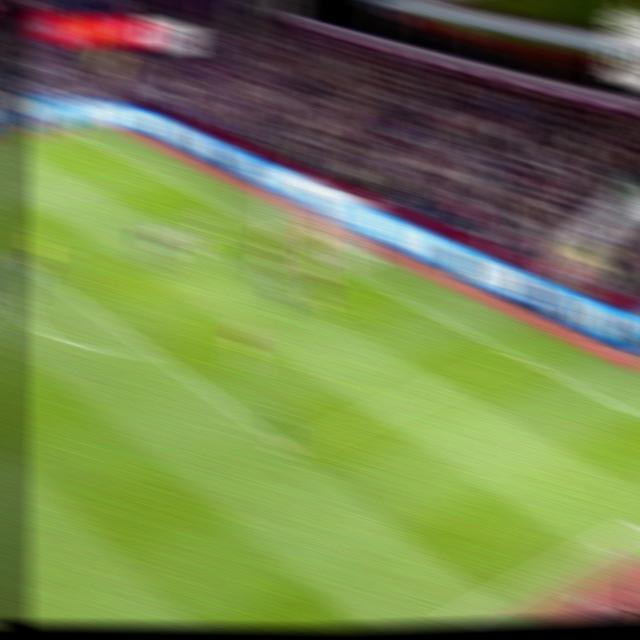bigarea_bottom_inner: (275, 441, 305, 459)
bigarea_bottom_outter: (504, 346, 531, 365)
bigarea_top_outter: (140, 166, 163, 180)
bottom_arc_area_intersection: (140, 343, 169, 365)
corner: (56, 124, 82, 138)
smallarea_bottom_inner: (314, 304, 341, 325)
smallarea_bottom_outter: (376, 281, 401, 302)
smallarea_top_outter: (214, 203, 240, 221)
top_arc_area_intersection: (19, 260, 50, 280)
